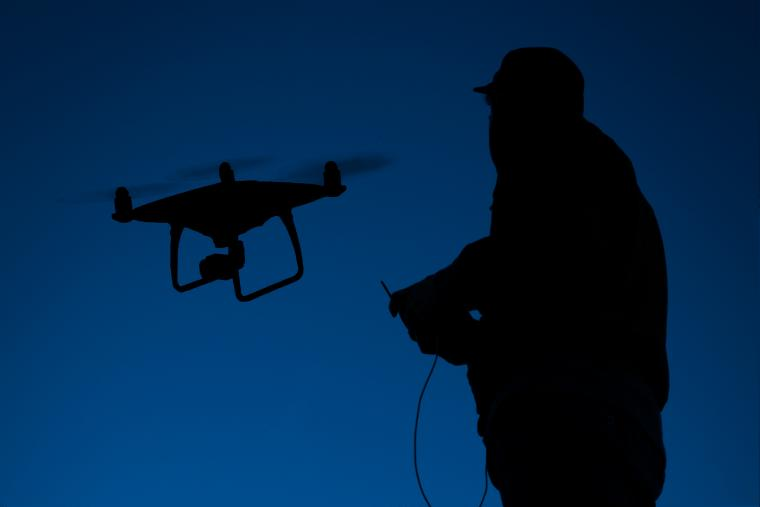drone_other: (70, 153, 392, 306)
